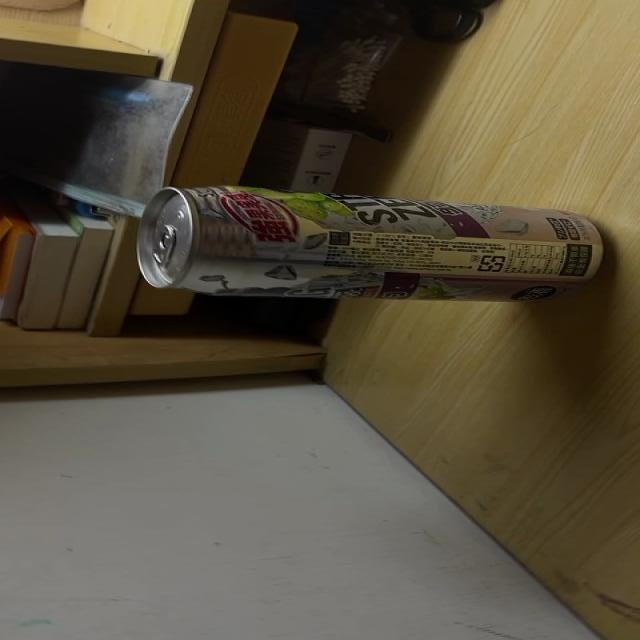Liquor: (140, 185, 604, 298)
